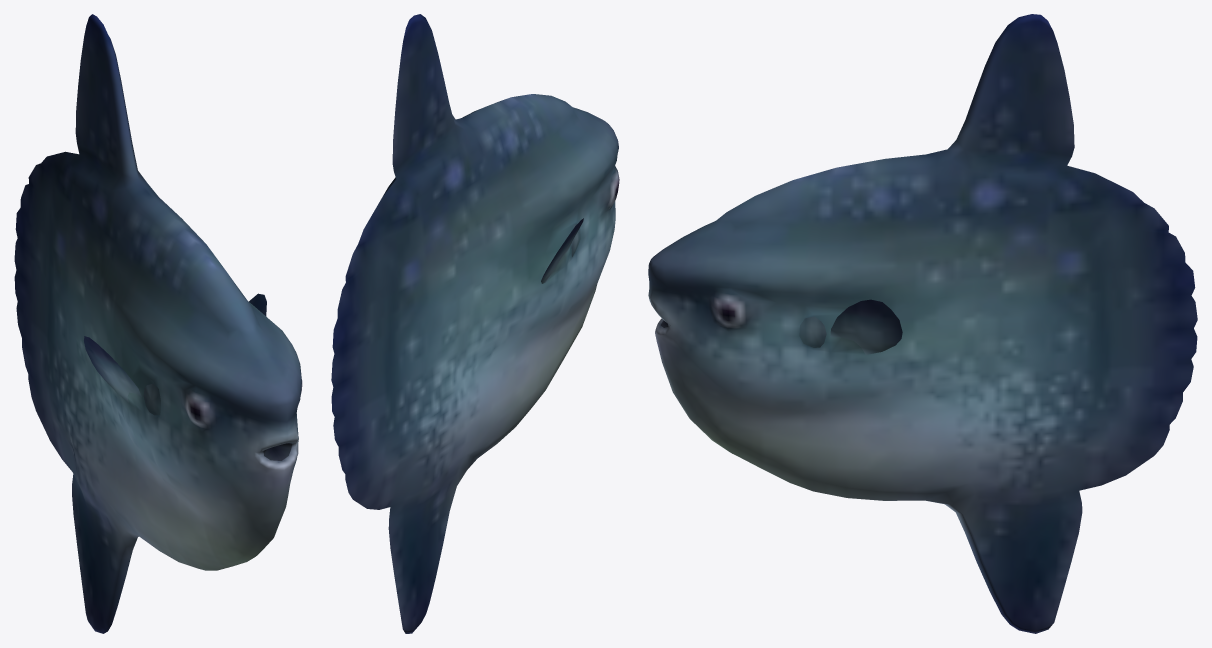
Rendered from ocean-sunfish.glb.
3 views of the same model, side by side, from view 1: azimuth 30°, elevation 25°; view 2: azimuth 150°, elevation 25°; view 3: azimuth 270°, elevation 25° (orthographic).
Size of the model in its own units: 8.75 by 29.43 by 23.64.
Materials: 1 (1 with a texture image).
